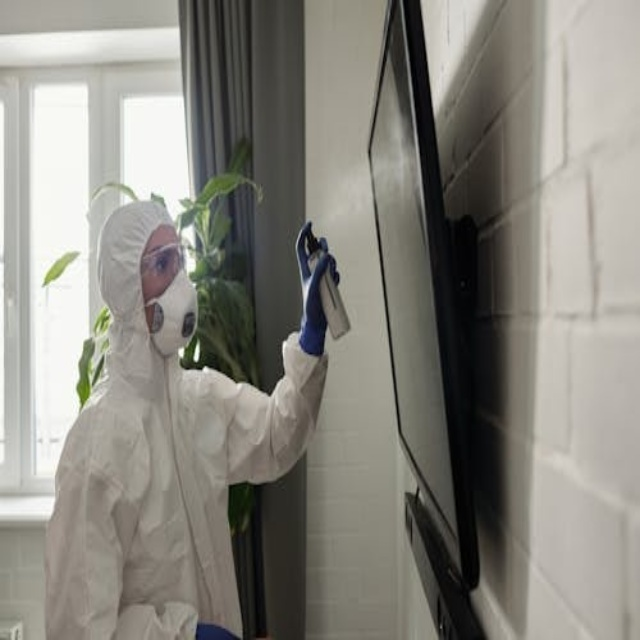Gafas: (140, 242, 187, 285)
Guantes: (295, 222, 339, 357), (195, 621, 240, 640)
Mascara: (147, 269, 199, 358)
